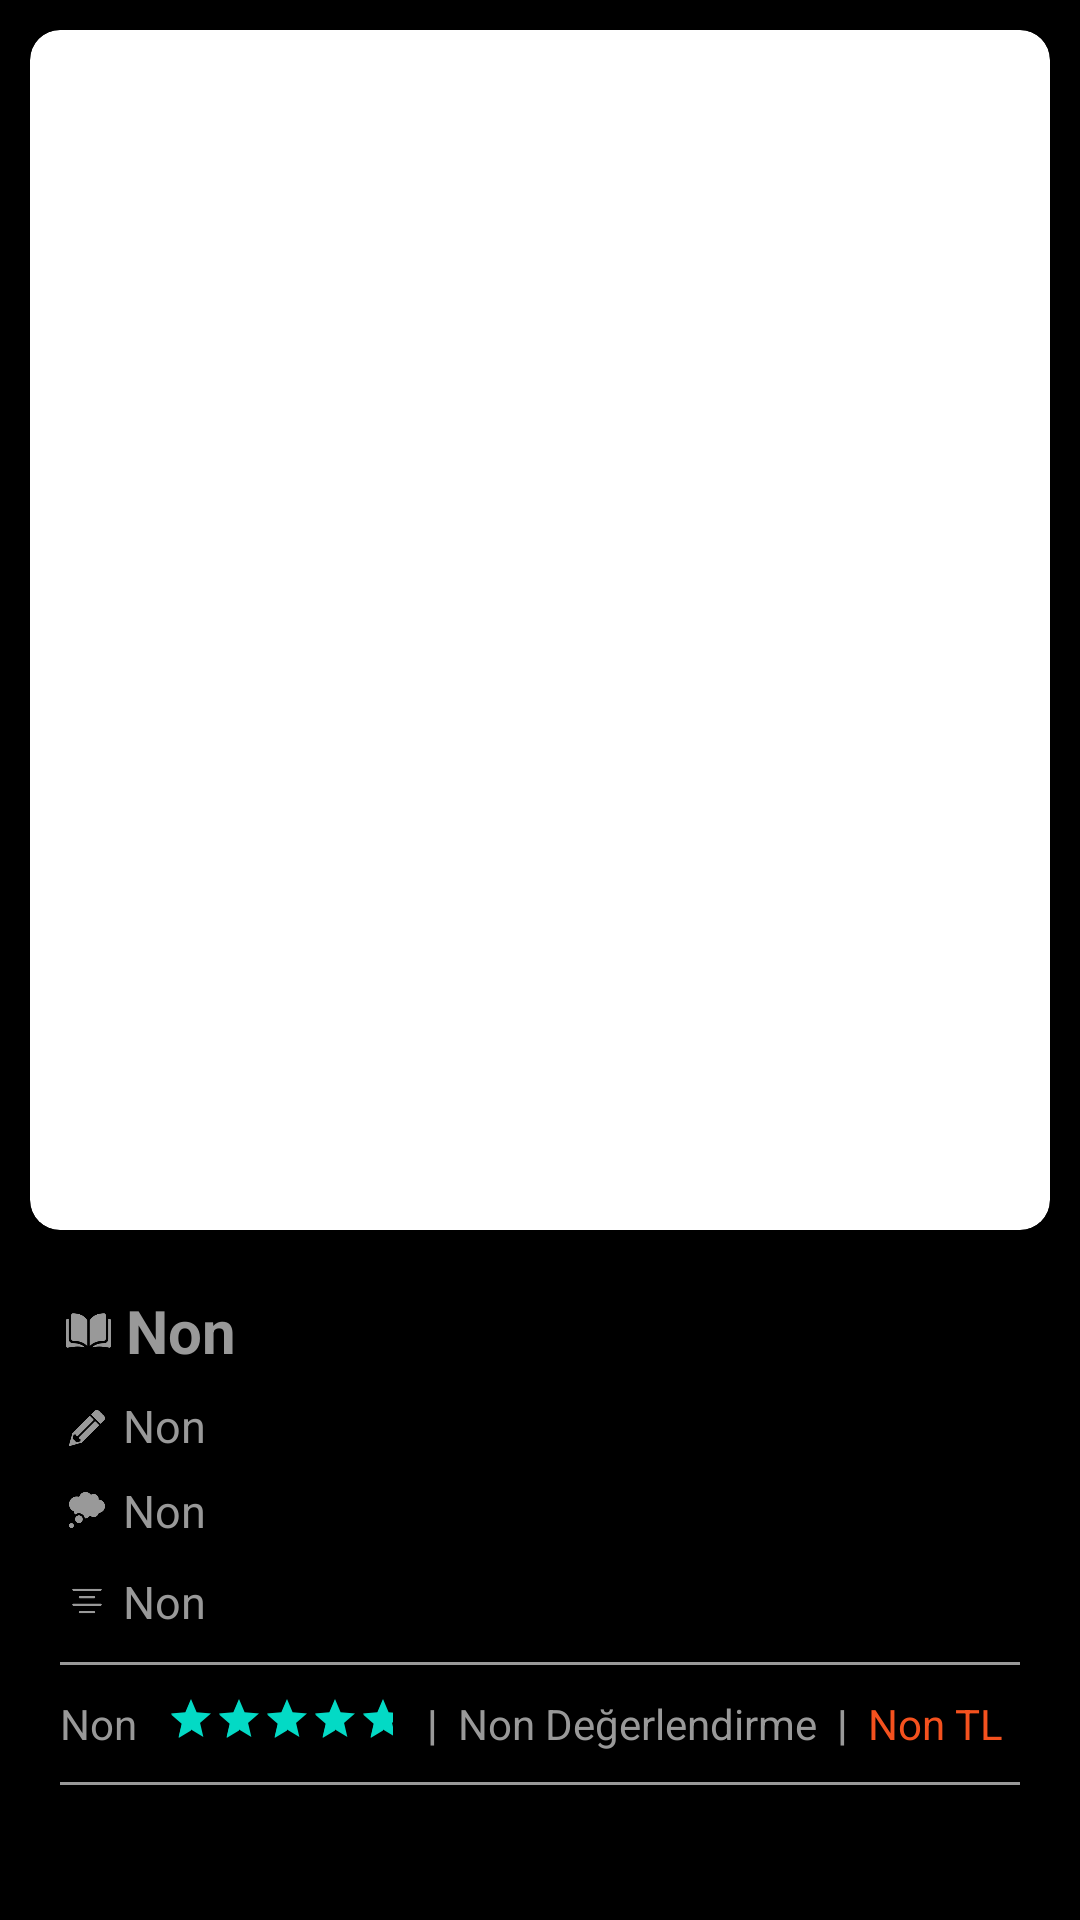

Point at icon controls on the screen. Image size 1080*1920, points as point (x, y).
book: point (88, 1330)
pencil: point (87, 1428)
thinking: point (87, 1510)
